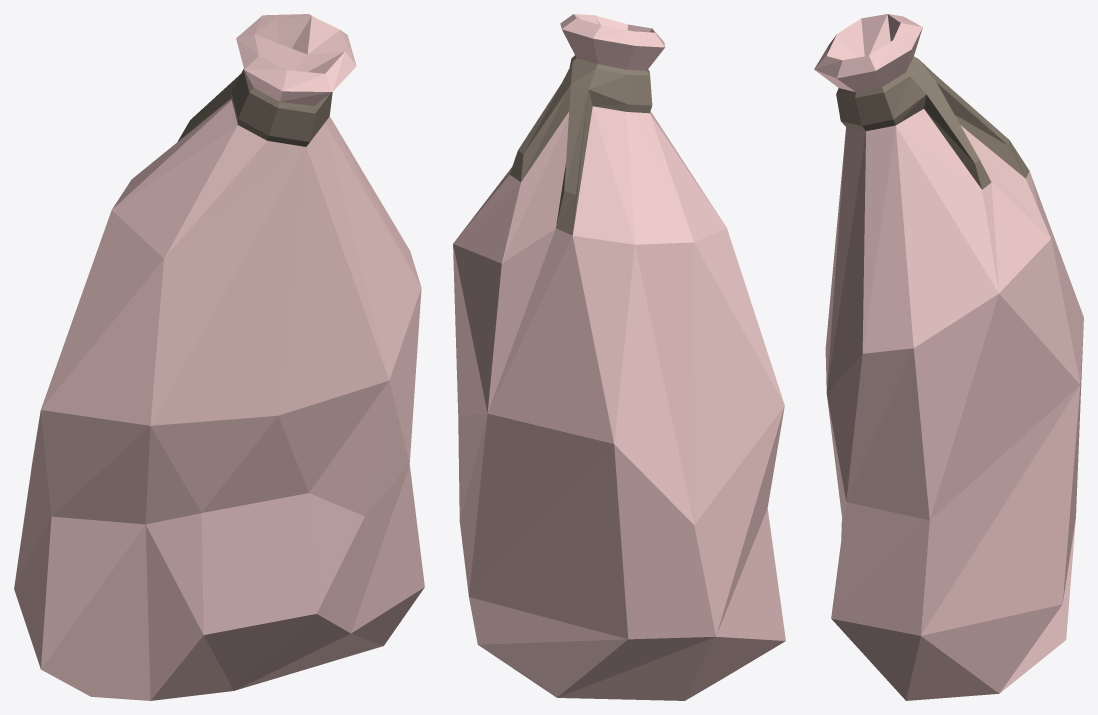
File: SM_Item_Bag_Attachment_01.glb
3 views of the same model, side by side, from view 1: azimuth 30°, elevation 25°; view 2: azimuth 150°, elevation 25°; view 3: azimuth 270°, elevation 25° (orthographic). The views are drawn at different scales.
Parts seen in each view (by area): view 1: SM_Item_Bag_Attachment_01_00; view 2: SM_Item_Bag_Attachment_01_00; view 3: SM_Item_Bag_Attachment_01_00.
Boxes of the visible parts, bbox=[...] form: SM_Item_Bag_Attachment_01_00: bbox=[14, 14, 424, 700]; SM_Item_Bag_Attachment_01_00: bbox=[453, 14, 785, 700]; SM_Item_Bag_Attachment_01_00: bbox=[814, 14, 1083, 700].
Bounding box in the file's own units: 0.2464 × 0.4493 × 0.166.
Materials: 1 (1 with a texture image).
